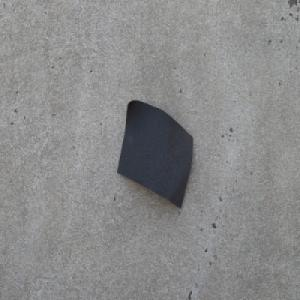PaintChip: (116, 99, 193, 209)
